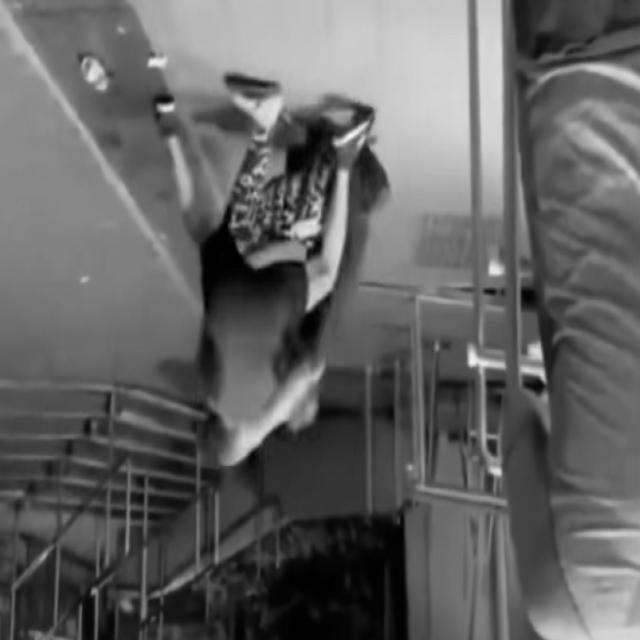fight: (147, 71, 383, 470)
nofight: (487, 1, 640, 624)
